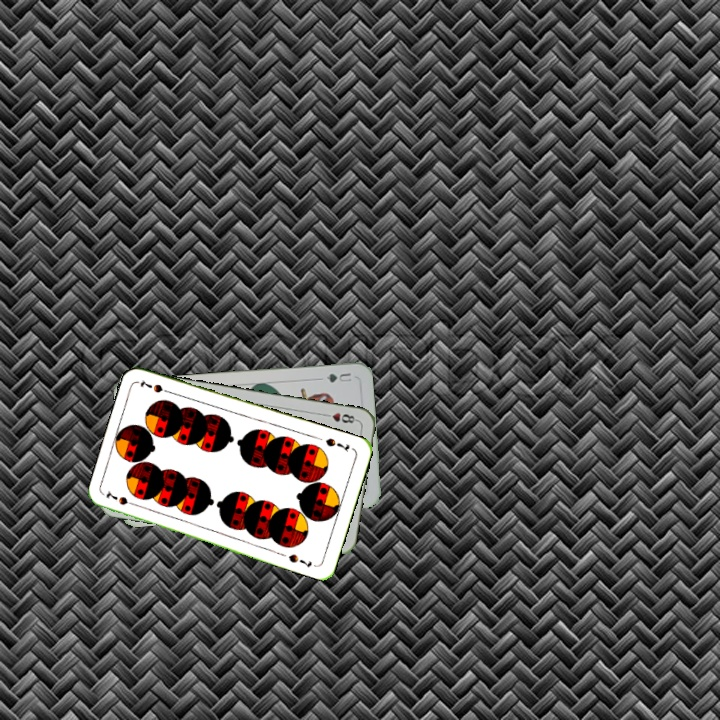GU: (322, 369, 354, 385)
H8: (319, 409, 360, 426)
S7: (102, 487, 140, 509), (321, 434, 352, 454)
